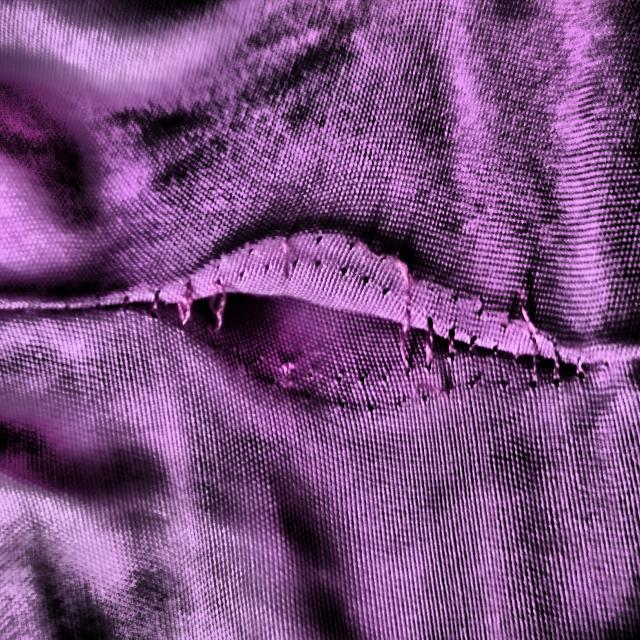seam: (121, 192, 584, 449)
